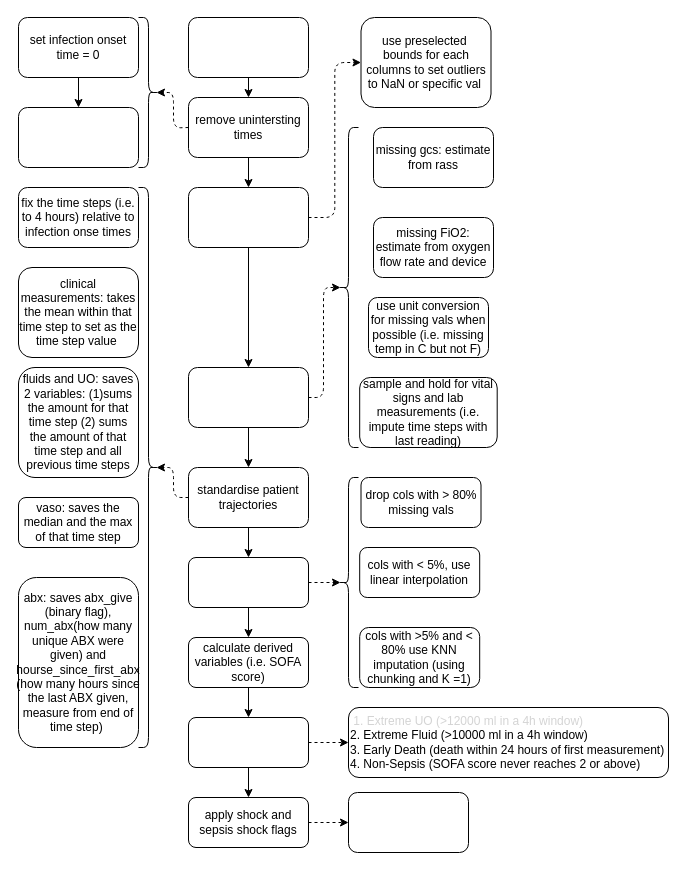
Image size: 686x870. Some labels were removed from this diagram. Here are the shapes that lost their labels. From the top down, the box of each, then its label:
(188, 16, 308, 78): Raw data
(18, 106, 138, 168): keep data which is >= onset_t - 24 and < onset_t + 72
(188, 186, 308, 248): handle outliers
(188, 366, 308, 428): deal with estimateable missing data
(188, 556, 308, 608): handle remaining missing values
(188, 716, 308, 768): apply exclusion critieria
(348, 792, 468, 852): for both: 0 when not present, 1 at time of onset, 2 after time of onset
